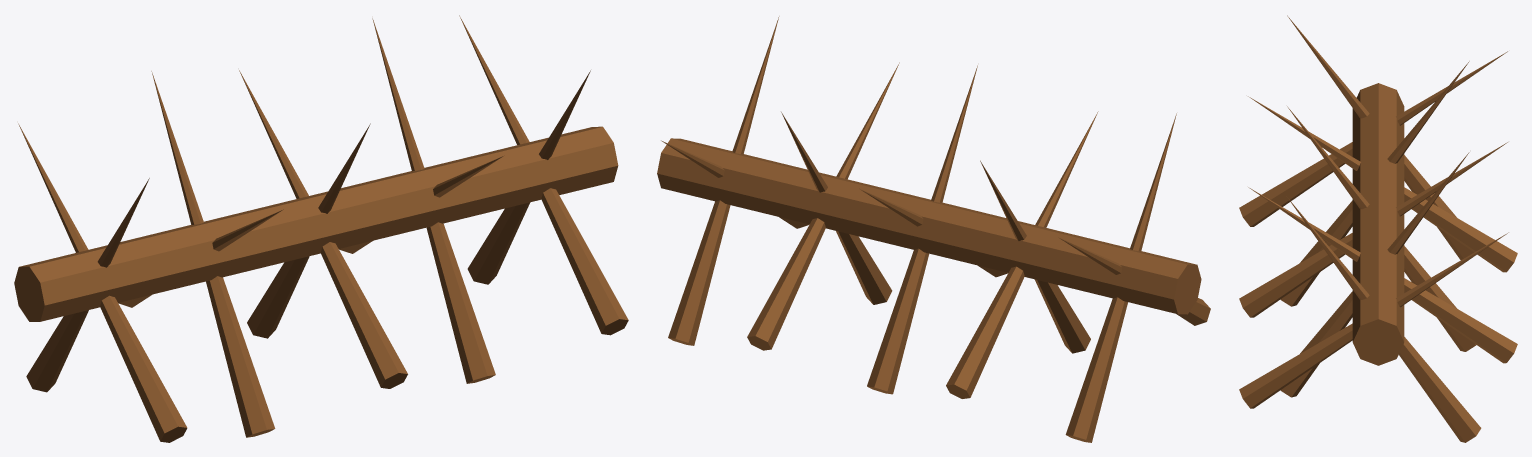
File: SM_Barricade_01.fbx
The picture shows the model from 3 angles, left to right: view 1: azimuth 30°, elevation 25°; view 2: azimuth 150°, elevation 25°; view 3: azimuth 270°, elevation 25°; orthographic projection. The views are drawn at different scales.
Visible parts, largest first — view 1: SM_Barricade_01; view 2: SM_Barricade_01; view 3: SM_Barricade_01.
Part boxes in pixels (bbox=[...]): SM_Barricade_01: bbox=[14, 15, 628, 442]; SM_Barricade_01: bbox=[657, 16, 1210, 442]; SM_Barricade_01: bbox=[1239, 15, 1517, 442].
Bounding box in the file's own units: 2.6 × 1.26 × 1.3.
